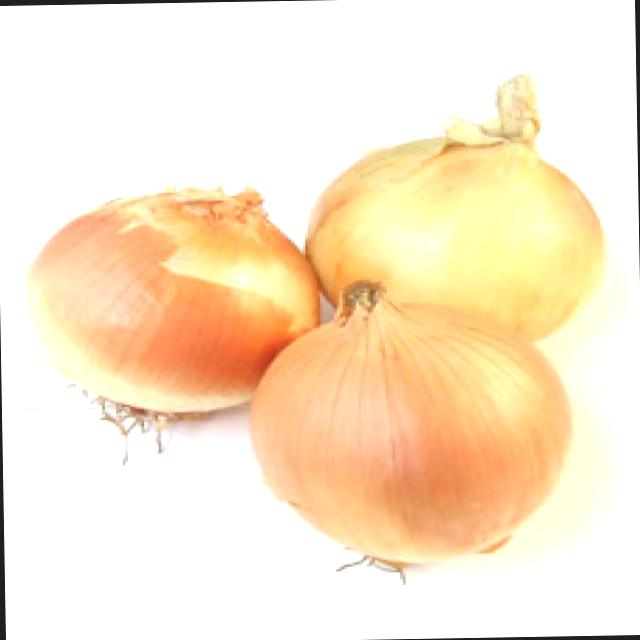onion: (236, 270, 573, 566), (290, 110, 614, 344), (18, 182, 307, 429)
